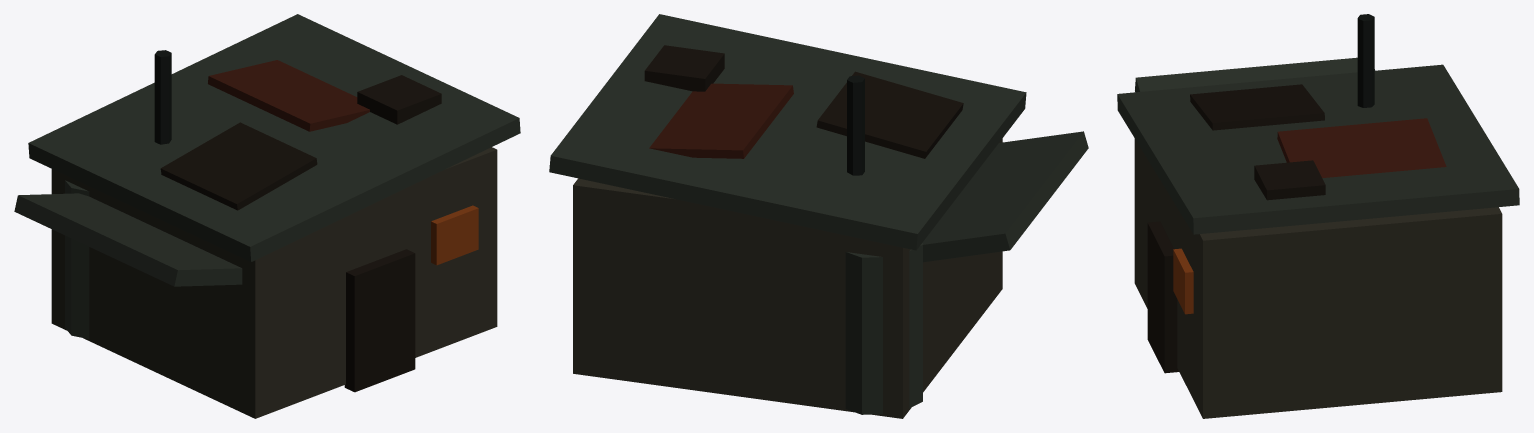
Rendered from prop_house.obj.
3 renders of one model, left to right at view 1: azimuth 30°, elevation 25°; view 2: azimuth 150°, elevation 25°; view 3: azimuth 270°, elevation 25°, orthographic. The views are drawn at different scales.
Parts seen in each view (by area): view 1: MilitaryStructure9; view 2: MilitaryStructure9; view 3: MilitaryStructure9.
Part boxes in pixels (left/top/right/bottom): MilitaryStructure9: left=14, top=14, right=520, bottom=418; MilitaryStructure9: left=549, top=14, right=1088, bottom=418; MilitaryStructure9: left=1117, top=14, right=1519, bottom=418.
Size of the model in its own units: 4.45 by 2.84 by 3.68.
